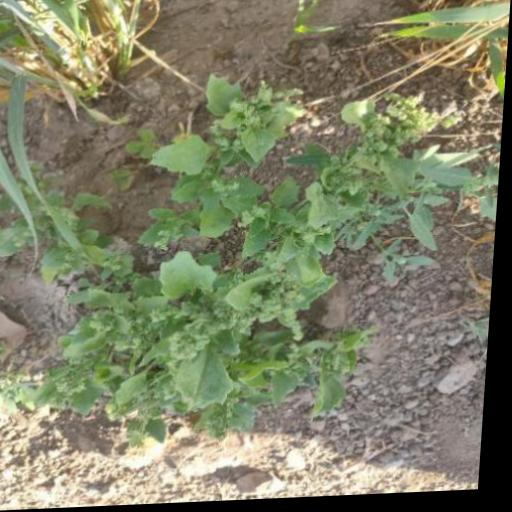weed: (66, 111, 424, 407)
